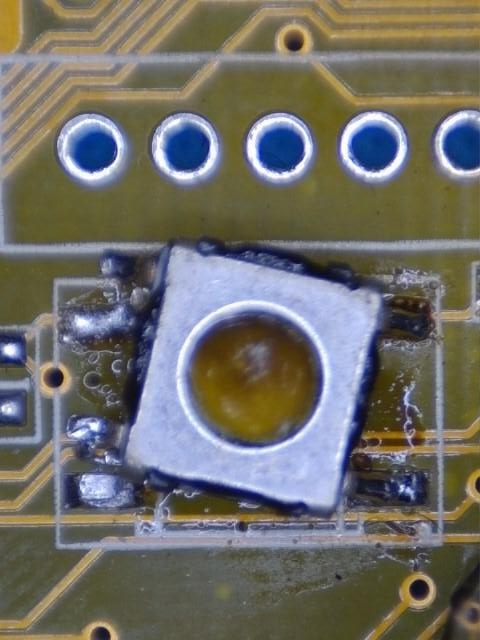pcb_defect: (59, 238, 433, 519)
